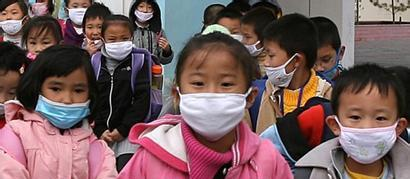OK: (181, 69, 245, 131), (341, 102, 395, 162), (107, 30, 135, 59), (70, 2, 92, 25)
WRONG: (44, 78, 88, 122), (264, 47, 303, 88), (308, 53, 340, 82), (1, 75, 21, 117), (28, 35, 57, 62), (1, 7, 27, 37), (86, 19, 110, 49), (244, 28, 265, 58), (136, 4, 157, 25)
